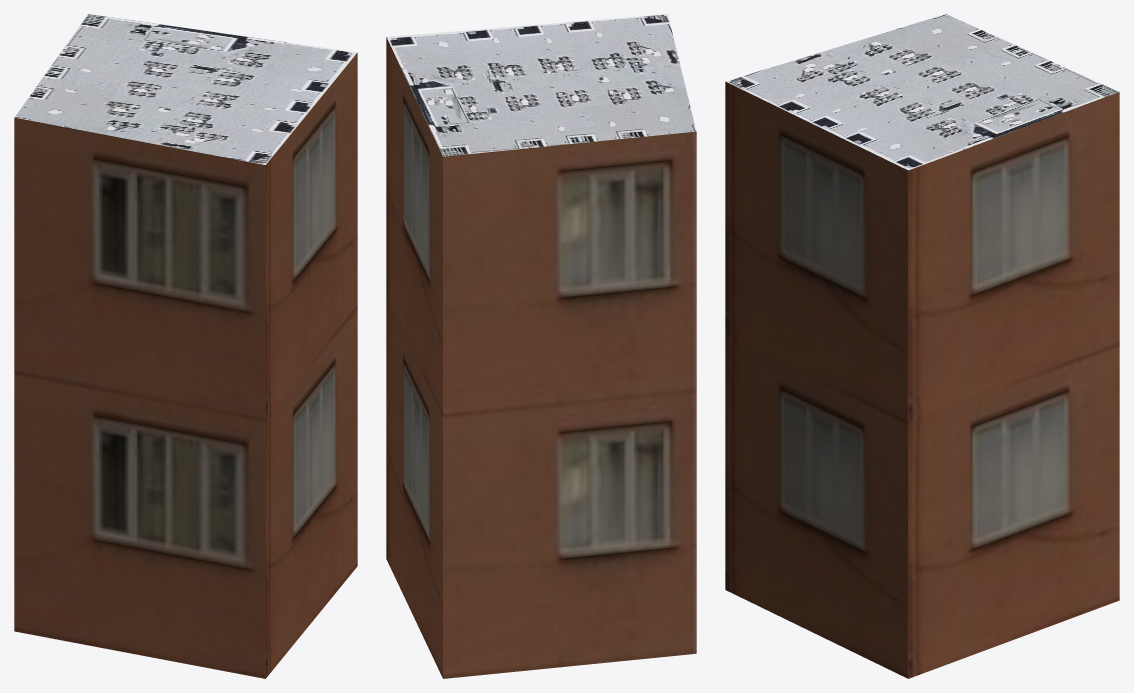
File: ResTex__1637.fbx
The picture shows the model from 3 angles, left to right: view 1: azimuth 30°, elevation 25°; view 2: azimuth 150°, elevation 25°; view 3: azimuth 270°, elevation 25°; orthographic projection. The views are drawn at different scales.
Visible parts, largest first — view 1: CityEngineMaterial_20_m, CityEngineMaterial_2_m; view 2: CityEngineMaterial_20_m, CityEngineMaterial_2_m; view 3: CityEngineMaterial_20_m, CityEngineMaterial_2_m.
Boxes of the visible parts, box(x1,y1,x2,y2) form: CityEngineMaterial_20_m: box(14, 53, 357, 678); CityEngineMaterial_2_m: box(14, 14, 357, 164); CityEngineMaterial_20_m: box(386, 37, 696, 678); CityEngineMaterial_2_m: box(386, 14, 696, 156); CityEngineMaterial_20_m: box(725, 81, 1119, 678); CityEngineMaterial_2_m: box(725, 14, 1118, 170).
Size of the model in its own units: 3.96 by 6 by 4.22.
Materials: 2 (2 with a texture image).
